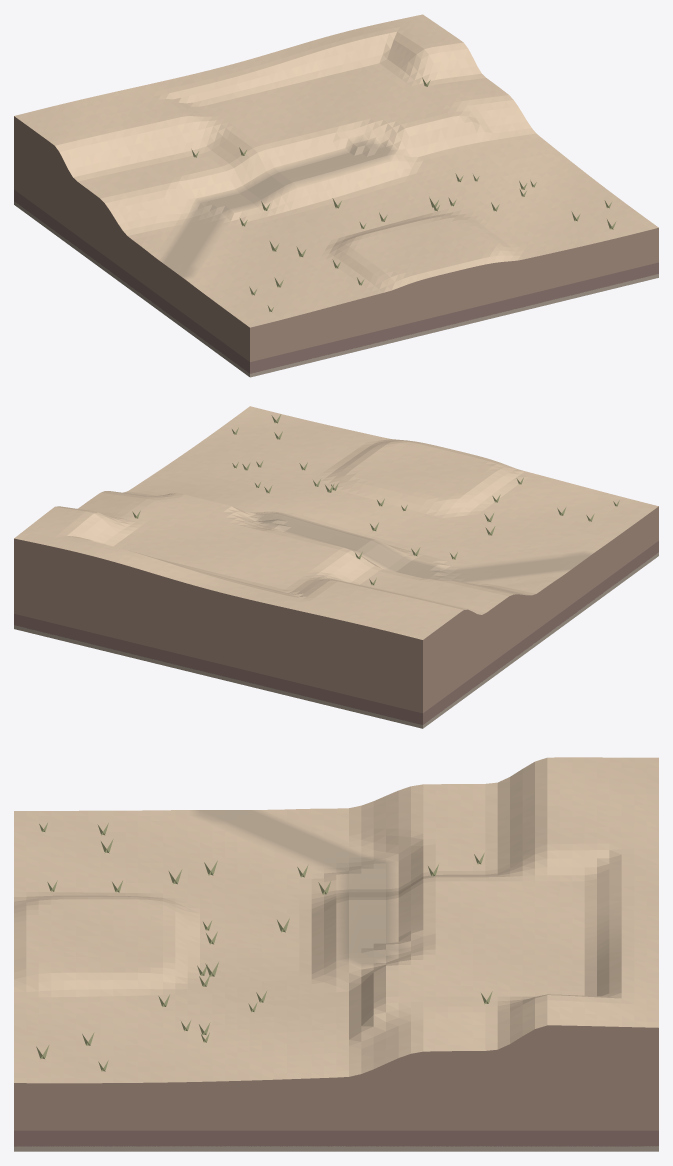
The picture shows the model from 3 angles, top to bottom: view 1: azimuth 30°, elevation 25°; view 2: azimuth 150°, elevation 25°; view 3: azimuth 270°, elevation 25°; orthographic projection. The views are drawn at different scales.
Visible parts, largest first — view 1: proc_ground, proc_skirt, proc_grass; view 2: proc_ground, proc_skirt, proc_grass; view 3: proc_ground, proc_skirt, proc_grass.
Part boxes in pixels (x1,y1,x2,y2): proc_ground: (14, 14, 658, 327); proc_skirt: (14, 116, 658, 377); proc_grass: (191, 77, 616, 311); proc_ground: (14, 406, 658, 639); proc_skirt: (14, 506, 658, 728); proc_grass: (132, 414, 619, 585); proc_ground: (14, 757, 658, 1083); proc_skirt: (14, 1025, 658, 1151); proc_grass: (36, 823, 492, 1071).
Size of the model in its own units: 8 by 1.78 by 8.
